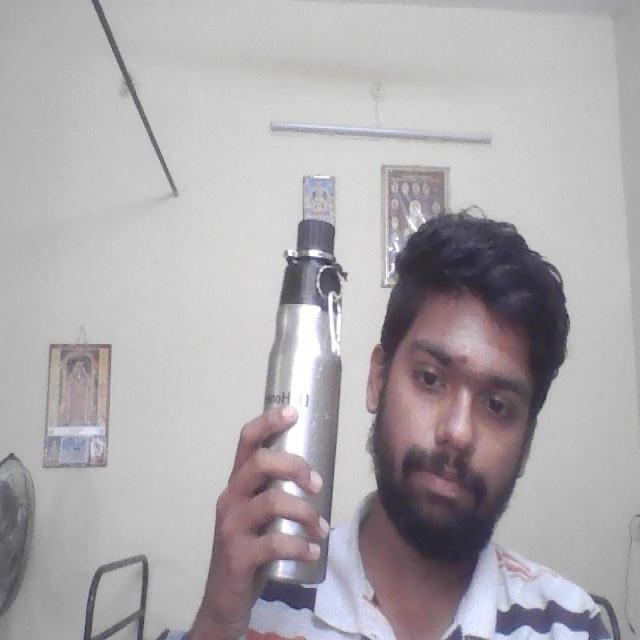Drinking: (255, 212, 352, 611)
